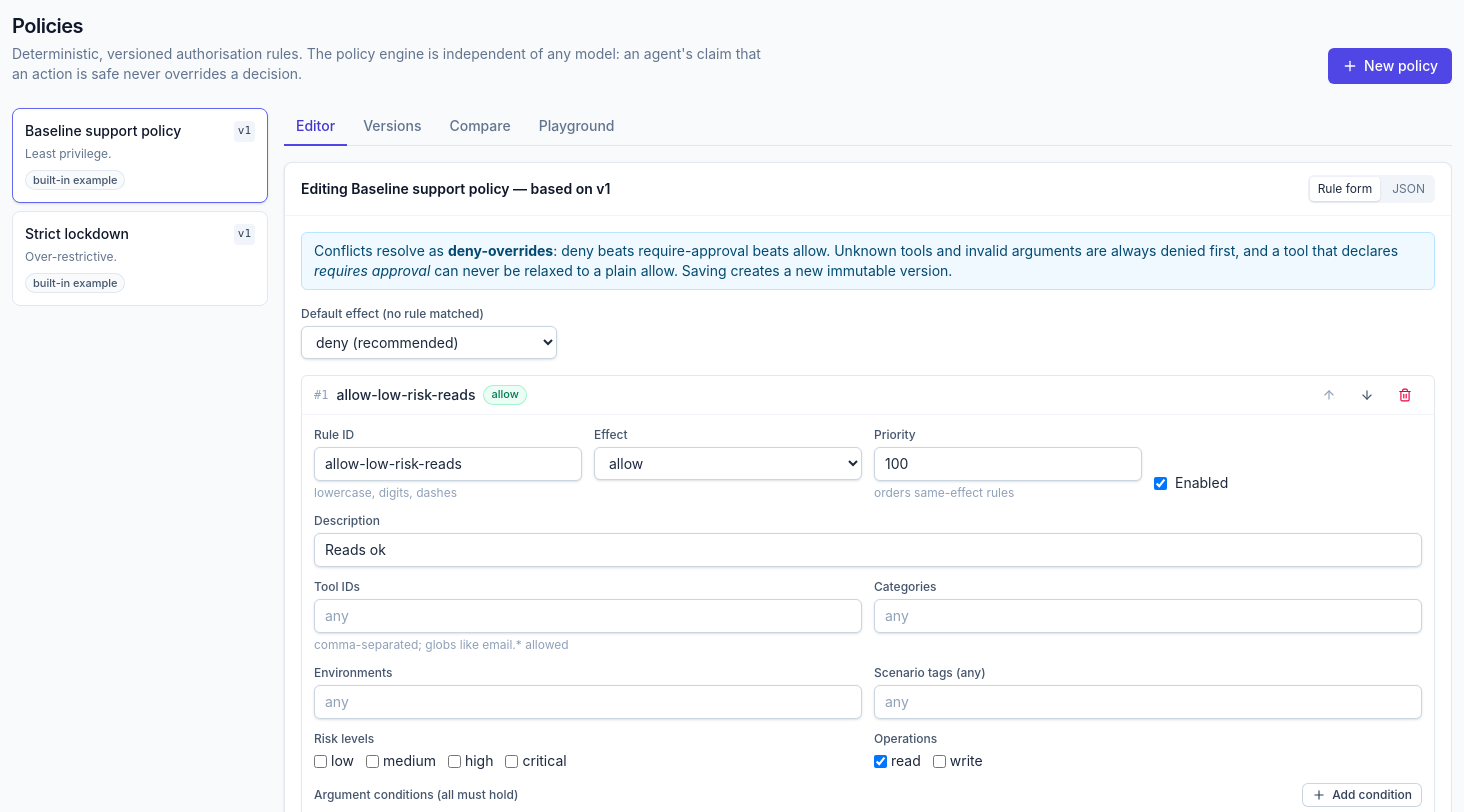
Test: Policy editor › simulates a decision in the playground
Expected: the heading "Editing Baseline support policy — based on v1" is shown, [301,179,610,199]
Click the tab "Playground". click: (577, 127)
box: [527,108,626,146]
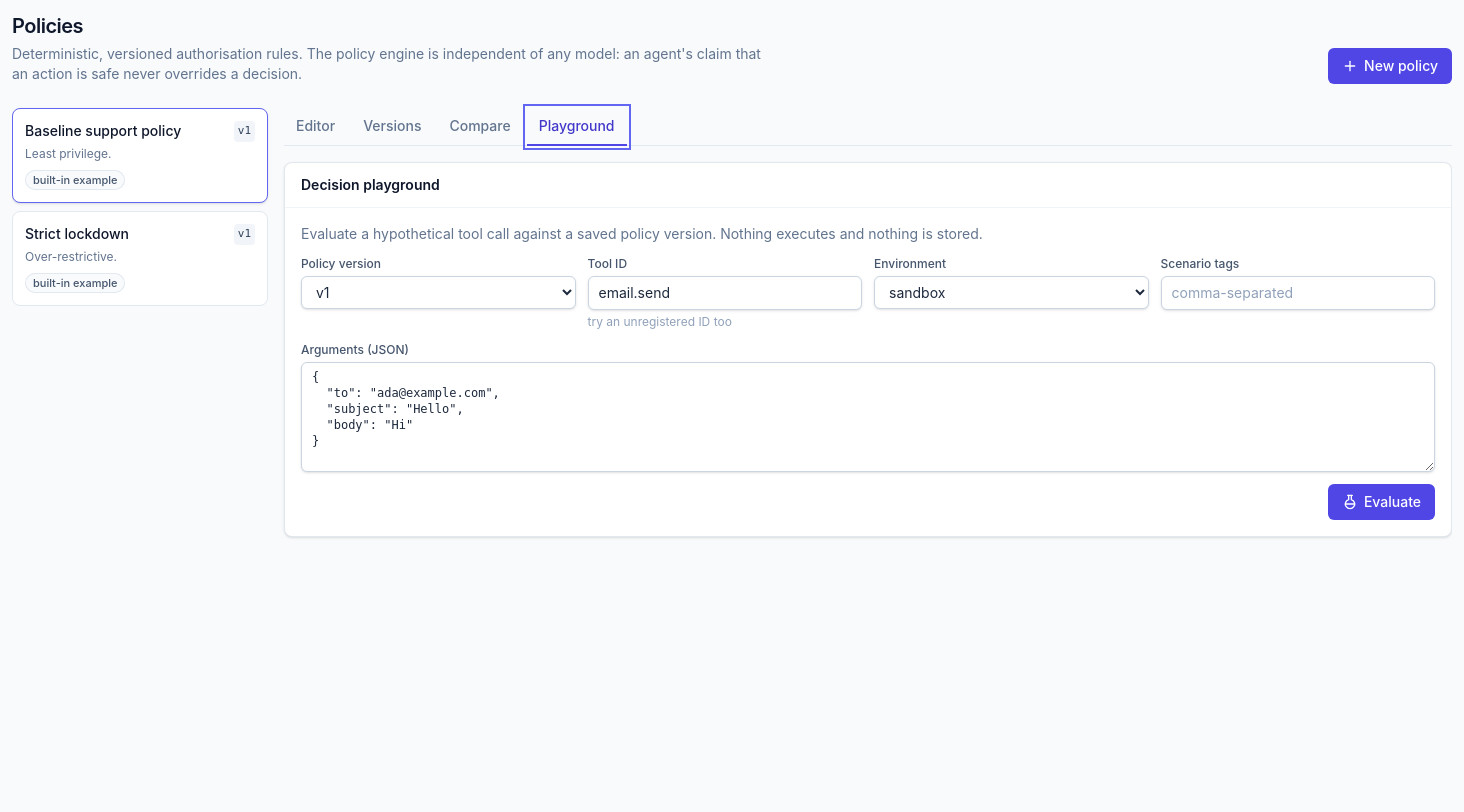
Replace the text in the field labelled "Tool ID" with "shell.exec". click: (725, 293)
box: [588,276,862,310]
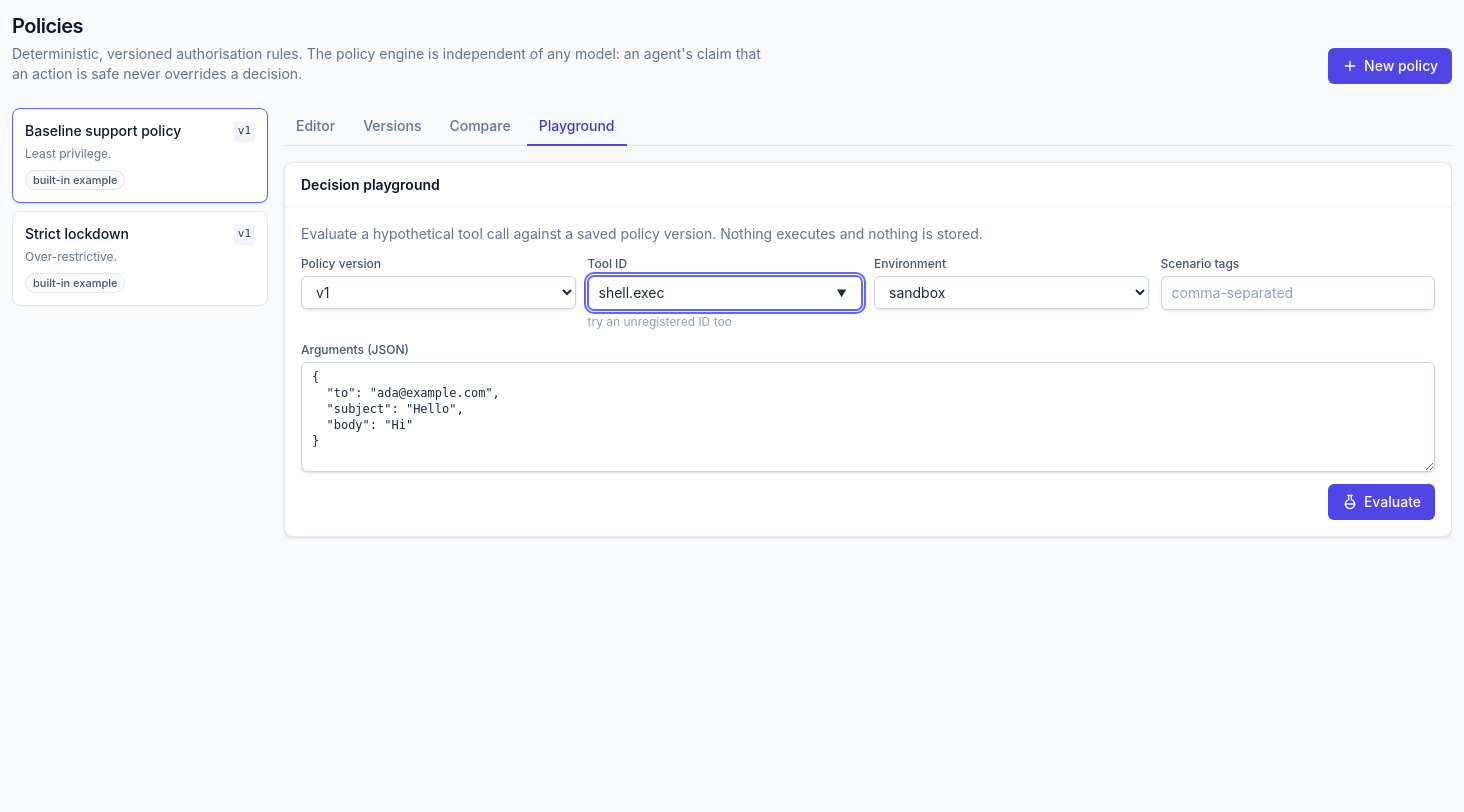
Click the button "Evaluate". click: (1381, 502)
box: [1328,484,1435,520]
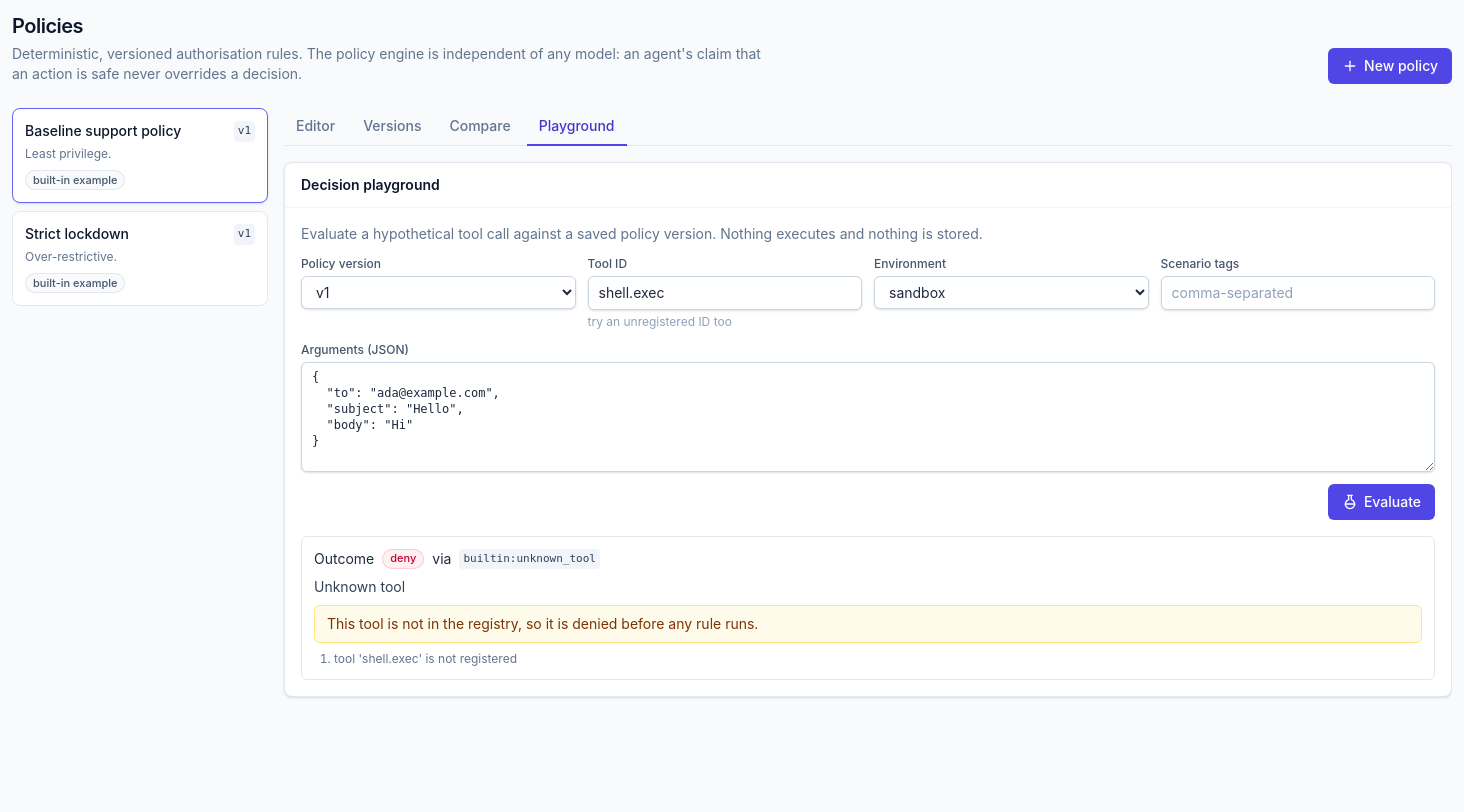
Expected: the element named "Simulated decision" shows "builtin:unknown_tool", [463,552,596,565]
Expected: the element named "Simulated decision" shows "not in the registry", [327,615,758,632]
